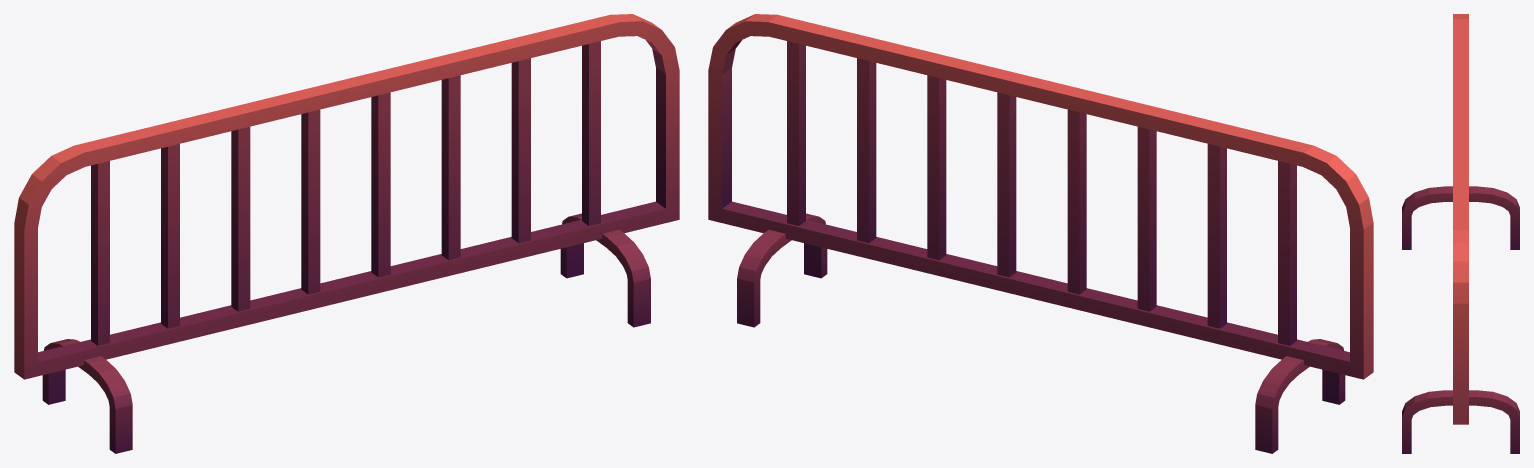
The model's file is lpb_fence_16.fbx.
3 views of the same model, side by side, from view 1: azimuth 30°, elevation 25°; view 2: azimuth 150°, elevation 25°; view 3: azimuth 270°, elevation 25° (orthographic). The views are drawn at different scales.
Parts seen in each view (by area): view 1: fence16; view 2: fence16; view 3: fence16.
Part boxes in pixels (<box>): fence16: <box>14,14,679,453</box>; fence16: <box>708,14,1373,453</box>; fence16: <box>1402,14,1519,453</box>.
Bounding box in the file's own units: 493 × 200 × 95.23.
